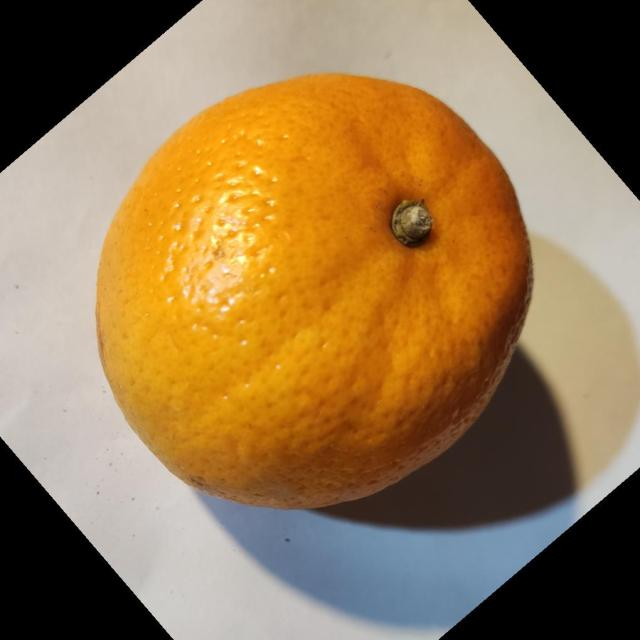fresh orange: (94, 71, 535, 510)
